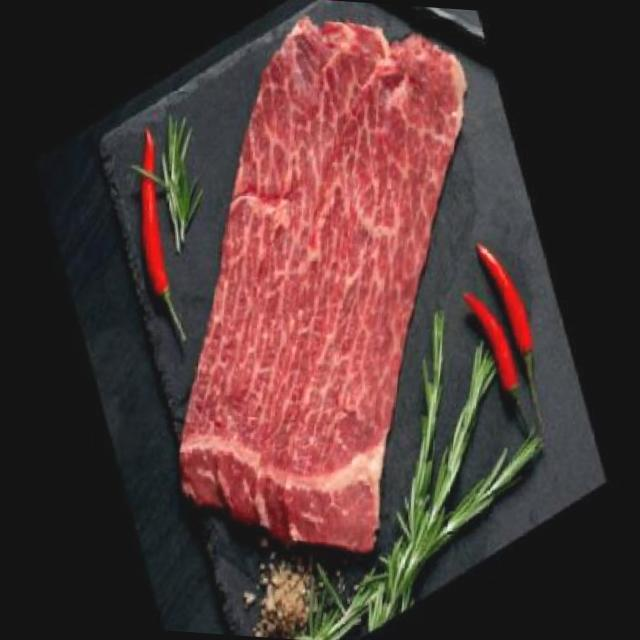beef: (148, 0, 492, 589)
